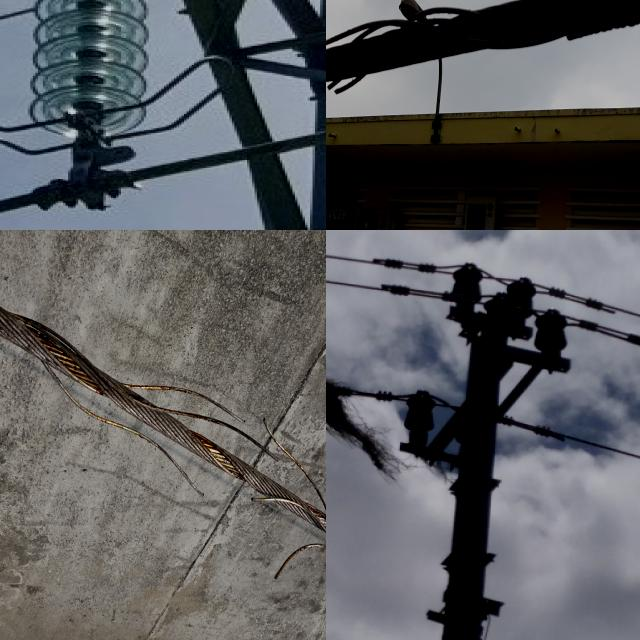杆塔: (370, 266, 589, 640), (116, 0, 326, 230)
植被遮挡: (326, 376, 409, 488)
正常绝缘子: (25, 0, 152, 204), (532, 314, 573, 358), (403, 391, 437, 435), (454, 262, 484, 308), (508, 276, 538, 322)
电缆破损: (1, 230, 326, 448), (326, 0, 640, 106)
